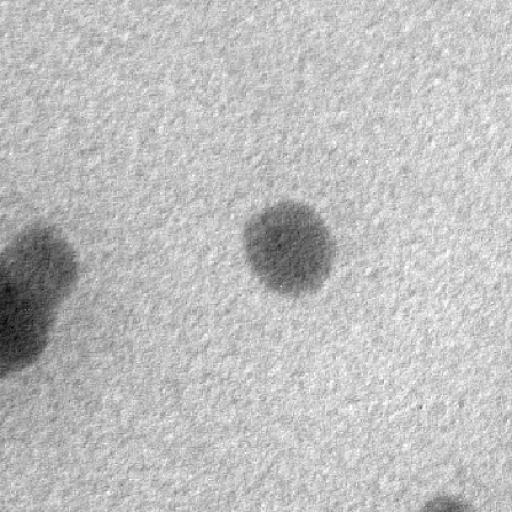Nanoparticles: (2, 218, 84, 388), (243, 198, 337, 294), (414, 493, 468, 512)
